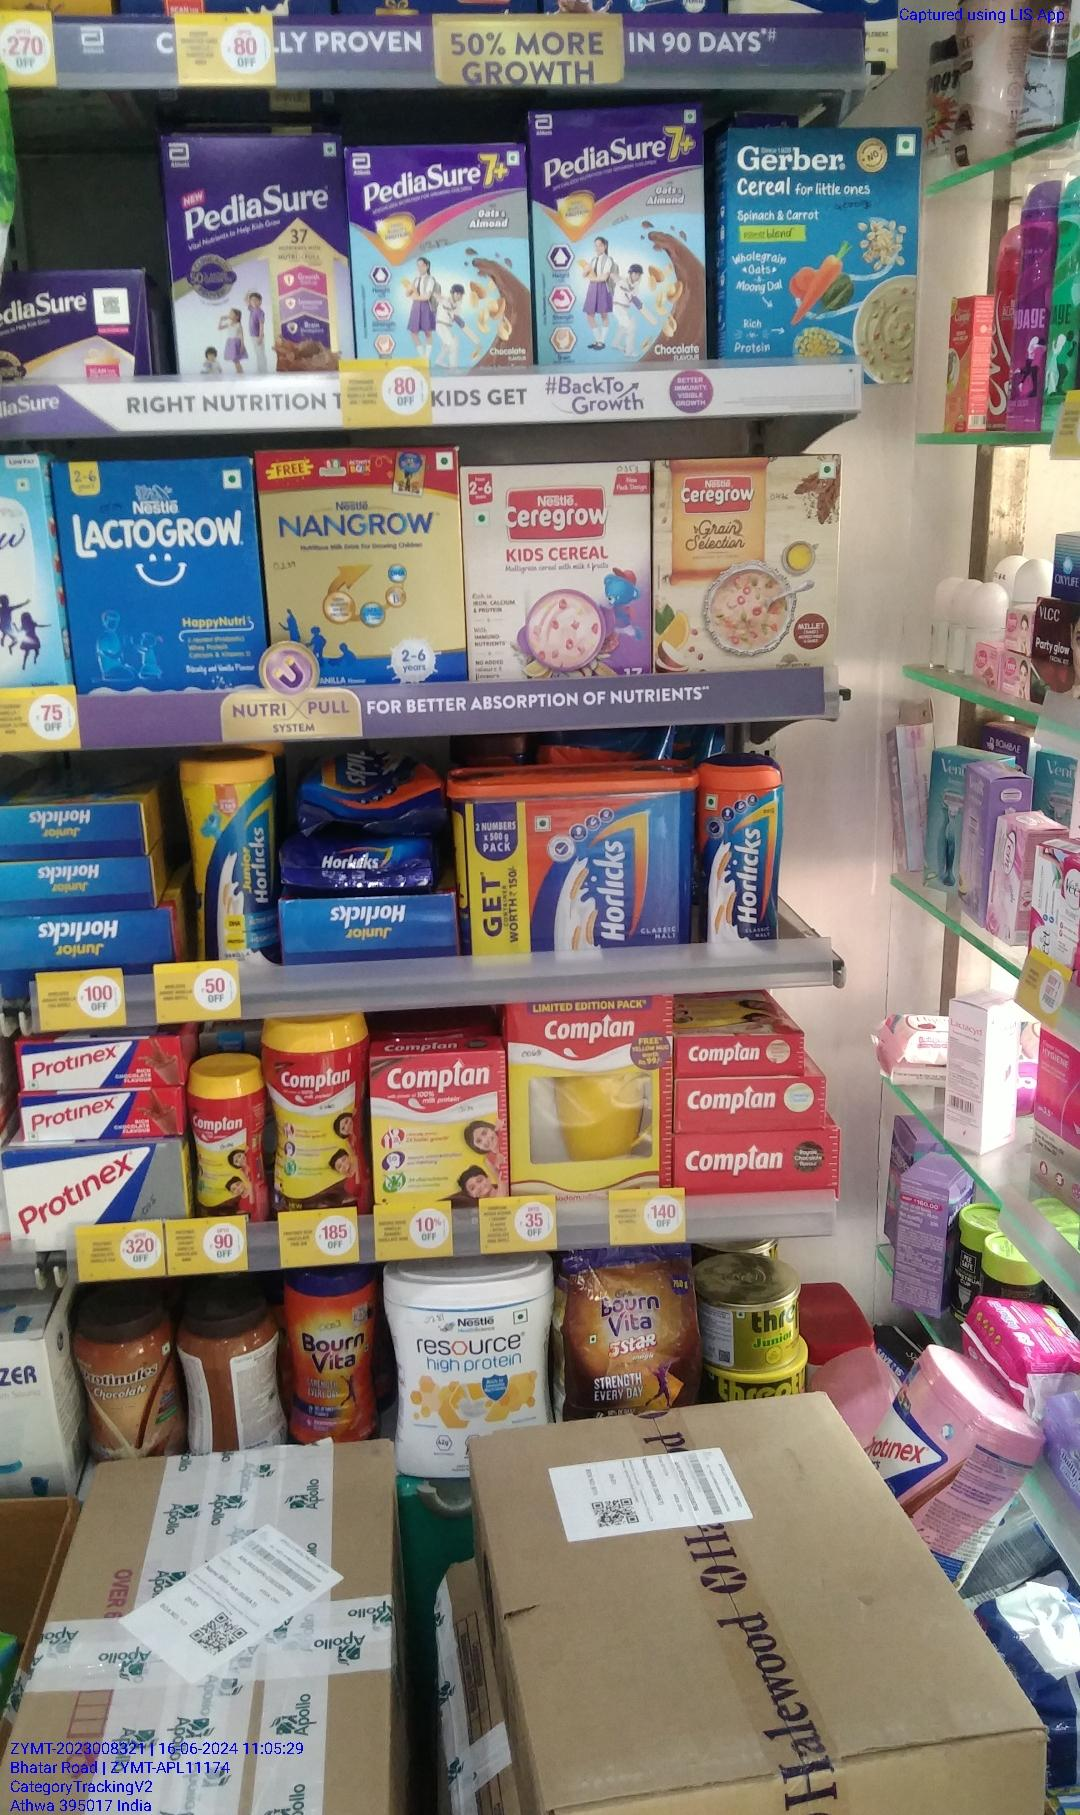BOURN_VITA_500_G_JAR: (287, 1273, 378, 1437)
BOURN_VITA_FIVE_STAR_MAGIC_750_G_POUCH: (562, 1252, 702, 1410)
COMPLAN_CHOCOLATE_200_GMS_JAR: (190, 1060, 266, 1216)
COMPLAN_CHOCOLATE_200_GMS_PACK: (369, 1054, 504, 1199)
COMPLAN_CHOCOLATE_500_GMS_JAR: (271, 1017, 361, 1203)
HORLICKS_JUNIOR_VANILLA_500_GM_JAR: (185, 761, 273, 960)
HORLICK_CLASSIC_MALT_500_G_JAR: (702, 761, 779, 947)
HORLICK_MALT_1_KG_CONTAINER: (463, 784, 696, 945)
PEDIASURE_7_PLUS_CHOCOLATE_400_G_PACK: (534, 113, 703, 364), (352, 147, 527, 360)
PEDIASURE_CHOCOLATE_500_G_PACK: (168, 136, 345, 356)
